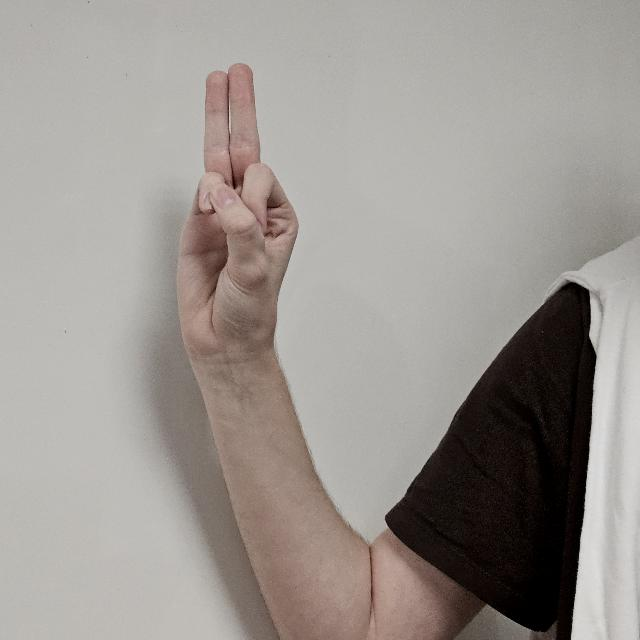R: (175, 62, 302, 402)
